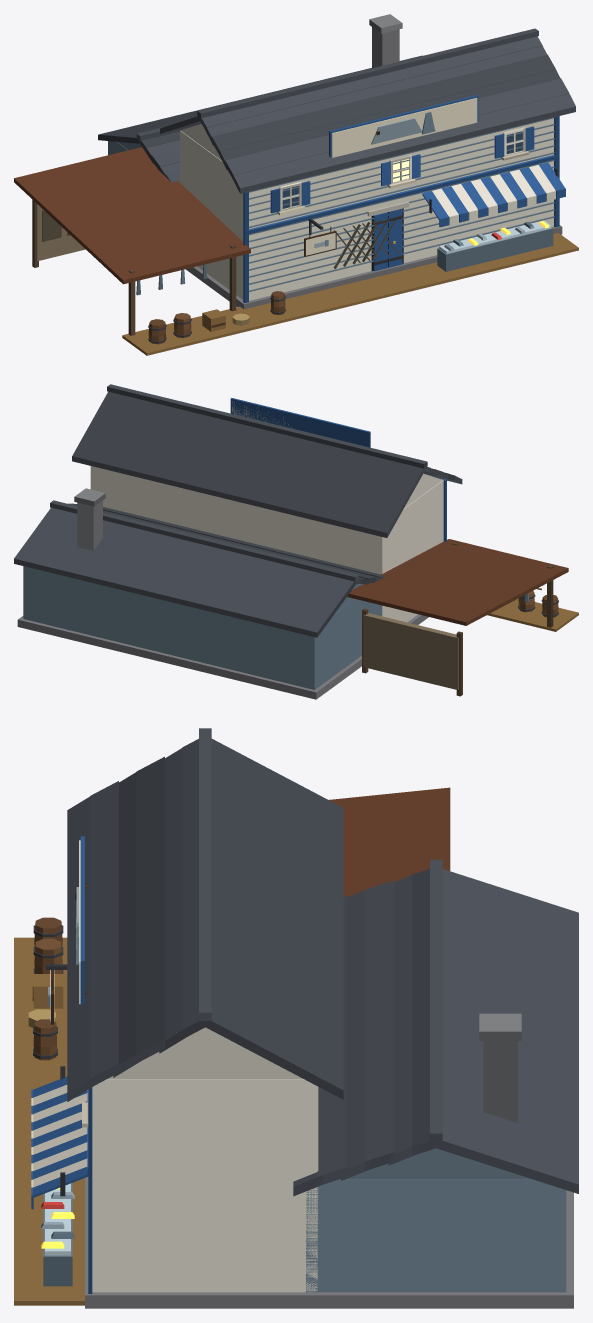
Rendered from kais_catch.glb.
3 views of the same model, one above another, from view 1: azimuth 30°, elevation 25°; view 2: azimuth 150°, elevation 25°; view 3: azimuth 270°, elevation 25° (orthographic). The views are drawn at different scales.
Parts seen in each view (by area): view 1: kais_catch_body, kais_catch_ground; view 2: kais_catch_body, kais_catch_ground; view 3: kais_catch_body, kais_catch_ground.
Boxes of the visible parts, bbox=[...] form: kais_catch_body: bbox=[14, 14, 575, 344]; kais_catch_ground: bbox=[122, 232, 578, 355]; kais_catch_body: bbox=[14, 384, 568, 699]; kais_catch_ground: bbox=[487, 598, 578, 631]; kais_catch_body: bbox=[28, 728, 578, 1308]; kais_catch_ground: bbox=[14, 937, 84, 1305].
Bounding box in the file's own units: 21.32 × 7.96 × 13.38.
